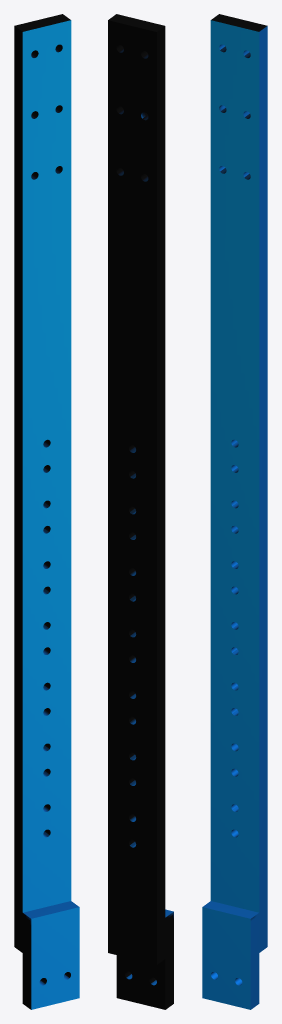
File: Step04.FBX
The picture shows the model from 3 angles, left to right: view 1: azimuth 30°, elevation 25°; view 2: azimuth 150°, elevation 25°; view 3: azimuth 330°, elevation 25°; orthographic projection.
Parts seen in each view (by area): view 1: part40; view 2: part40; view 3: part40.
Boxes of the visible parts, bbox=[...] form: part40: bbox=[14, 14, 79, 1009]; part40: bbox=[108, 14, 173, 1009]; part40: bbox=[202, 14, 267, 1009].
Size of the model in its own units: 6.35 by 122 by 3.81.
1 material, 1 textured.
